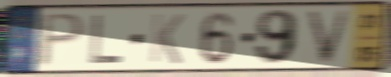6: (198, 10, 238, 67)
9: (254, 7, 303, 68)
K: (147, 11, 187, 66)
L: (87, 13, 125, 66)
P: (35, 11, 88, 69)
V: (304, 8, 354, 67)
